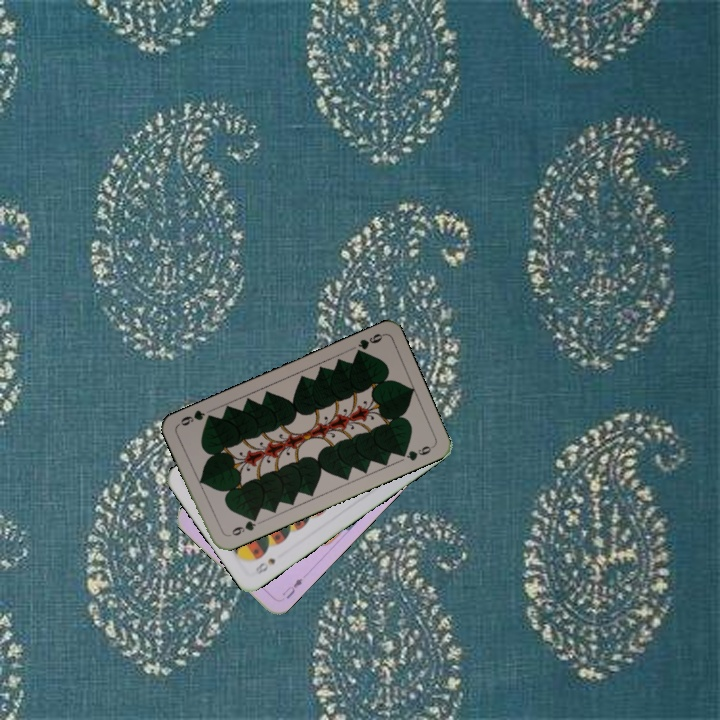EU: (278, 574, 305, 602)
G9: (351, 329, 386, 359), (224, 512, 260, 539)
S8: (251, 554, 278, 577)
